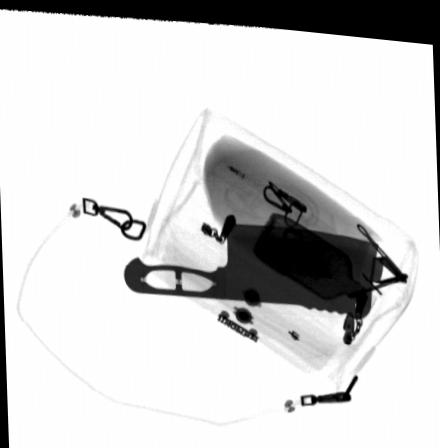Knife: (120, 214, 378, 313)
